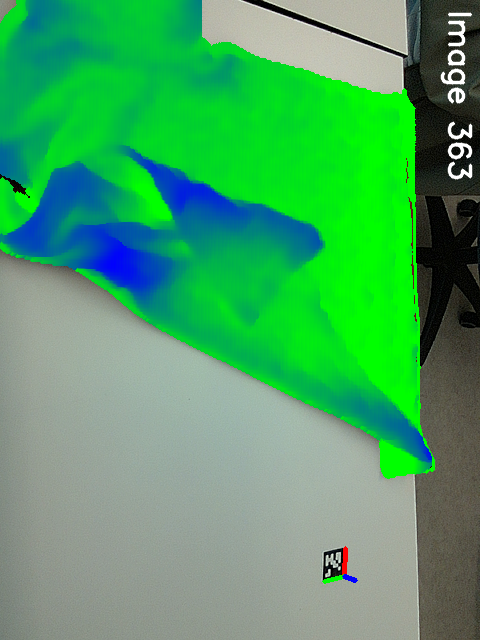V: (221, 293, 269, 333)
